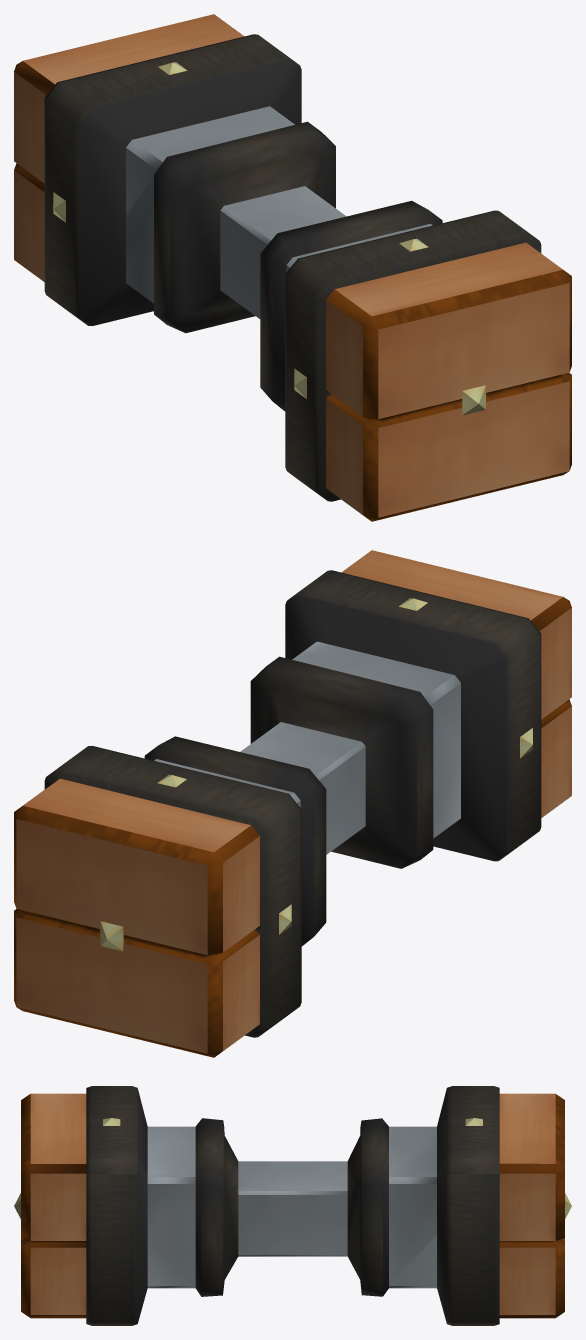
File: OS_Hub_Wheel_Base_Block.obj
3 renders of one model, top to bottom at view 1: azimuth 30°, elevation 25°; view 2: azimuth 150°, elevation 25°; view 3: azimuth 270°, elevation 25°, orthographic. The views are drawn at different scales.
Parts seen in each view (by area): view 1: Cube.012; view 2: Cube.012; view 3: Cube.012.
Part boxes in pixels (x1,y1,x2,y2): Cube.012: (14,14,571,521); Cube.012: (14,550,571,1057); Cube.012: (14,1086,571,1325).
Size of the model in its own units: 1.11 by 1.04 by 3.08.
